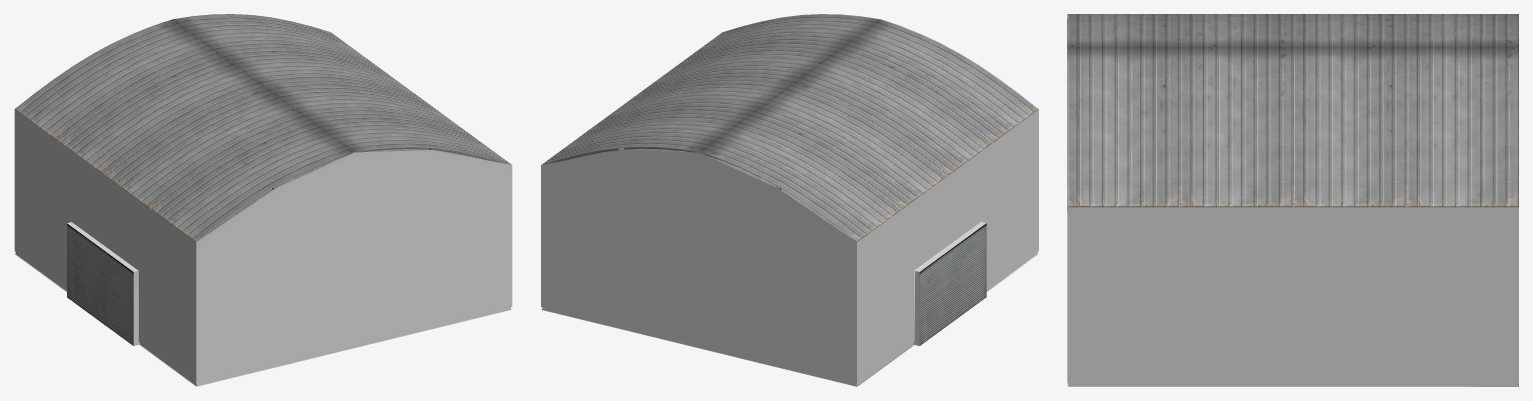
Rendered from garage_improve.FBX.
The picture shows the model from 3 angles, left to right: view 1: azimuth 30°, elevation 25°; view 2: azimuth 150°, elevation 25°; view 3: azimuth 270°, elevation 25°; orthographic projection. The views are drawn at different scales.
Parts seen in each view (by area): view 1: garage_wall, garage_roof, garage_Object, garage_combine; view 2: garage_wall, garage_roof, garage_Object, garage_combine, garage_emissive; view 3: garage_roof, garage_wall.
Boxes of the visible parts, x1,y1,x2,y2 form: garage_wall: (14, 110, 512, 386); garage_roof: (14, 14, 511, 241); garage_Object: (67, 223, 133, 345); garage_combine: (171, 19, 509, 244); garage_wall: (541, 109, 1038, 386); garage_roof: (541, 14, 1038, 241); garage_Object: (919, 223, 986, 345); garage_combine: (544, 15, 881, 240); garage_emissive: (541, 263, 1025, 386); garage_roof: (1067, 14, 1518, 207); garage_wall: (1067, 207, 1518, 386).
Bounding box in the file's own units: 402 × 237 × 394.
